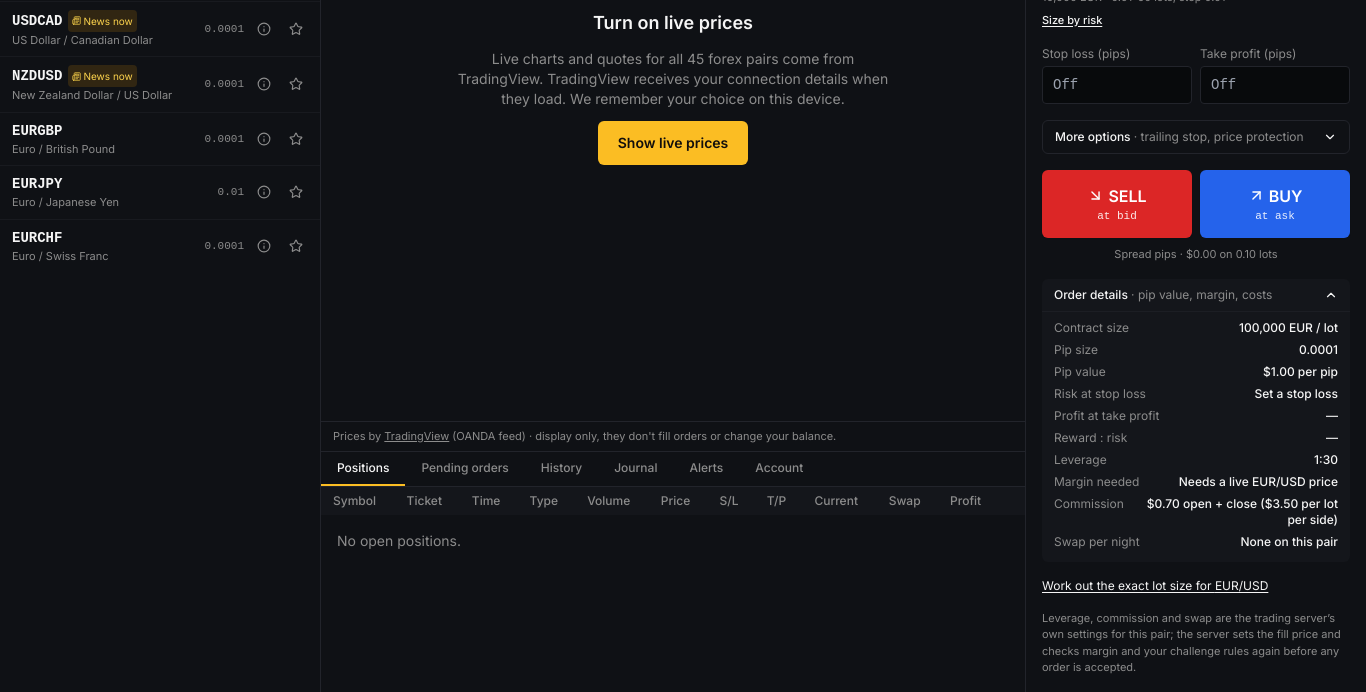
Test: holding waiting pending orders: terminal › enforced news window with holdPending: ticket note and specification say so; the row is tagged Held · news
(page scrolled)
Click the tab "Pending orders".
click(465, 468)  # box [405,452,525,486]
(page scrolled)
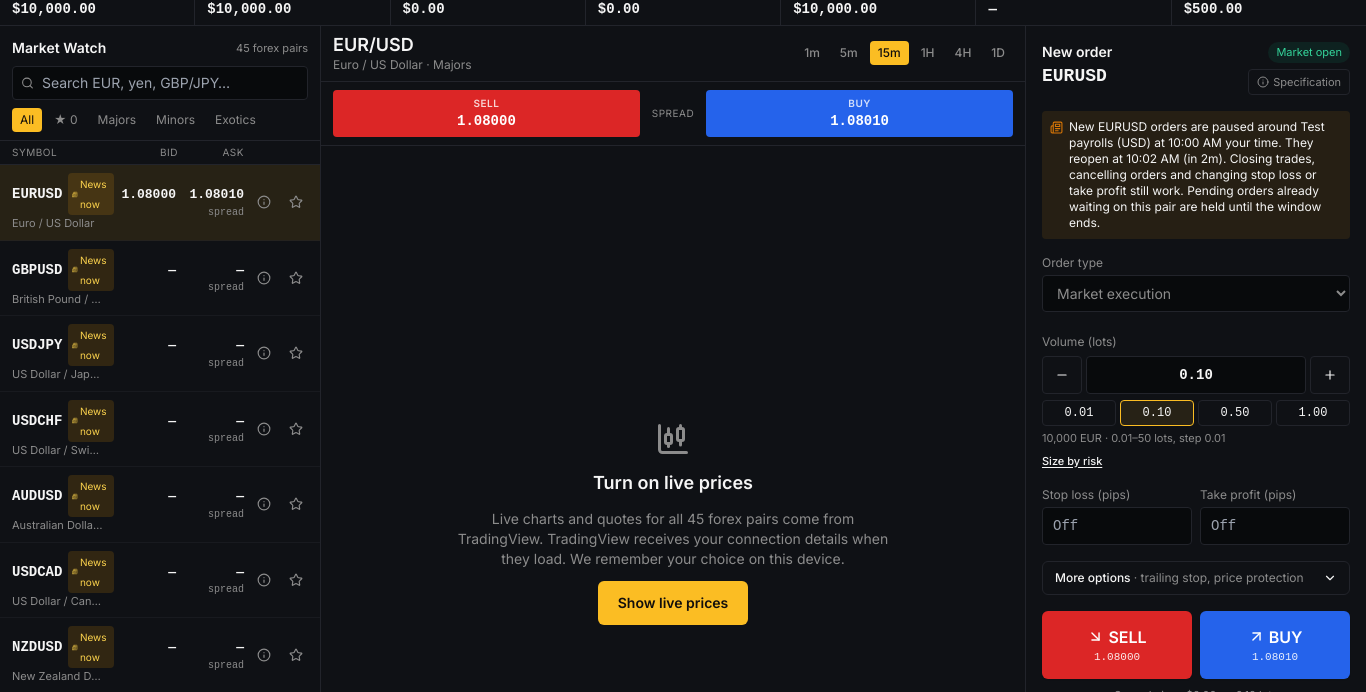
Click the button with test id "spec-button".
click(1299, 82)  # box [1248,68,1350,95]
(page scrolled)
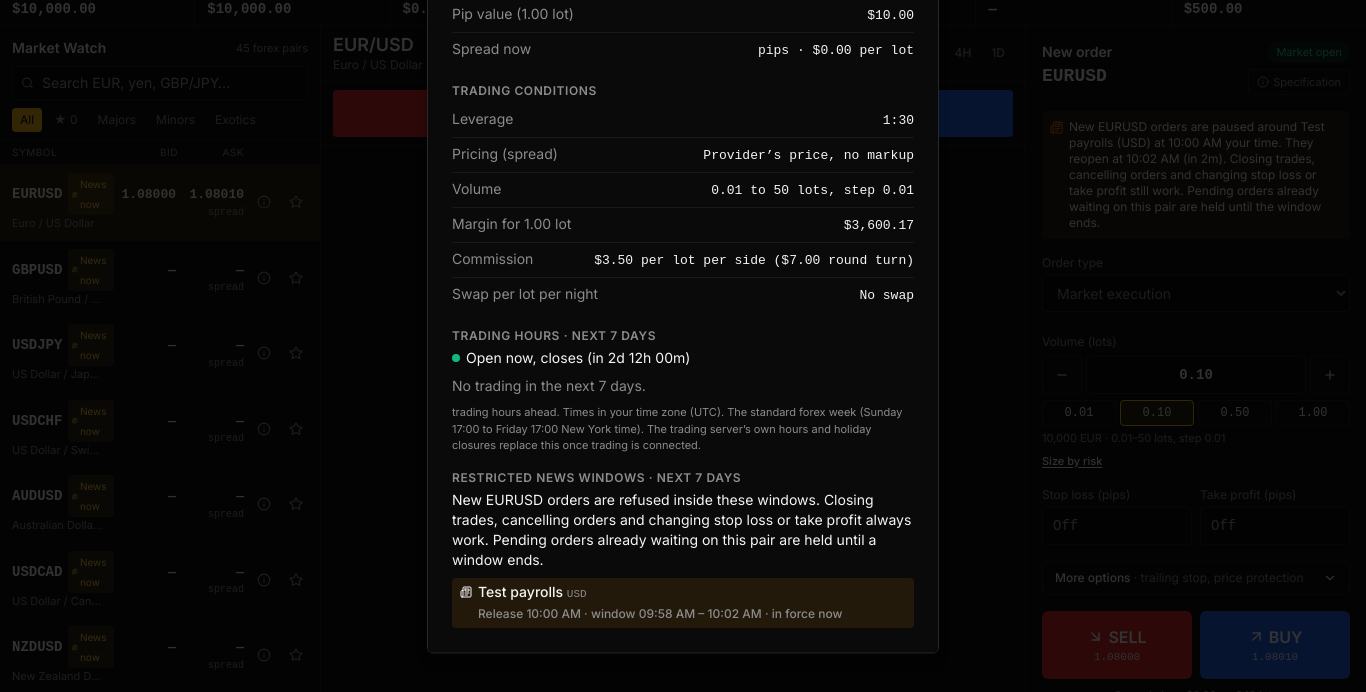
Now the text with test id "spec-news-rule" shows "Pending orders already waiting on this pair are held until a window ends.", box [452,491,911,568]
